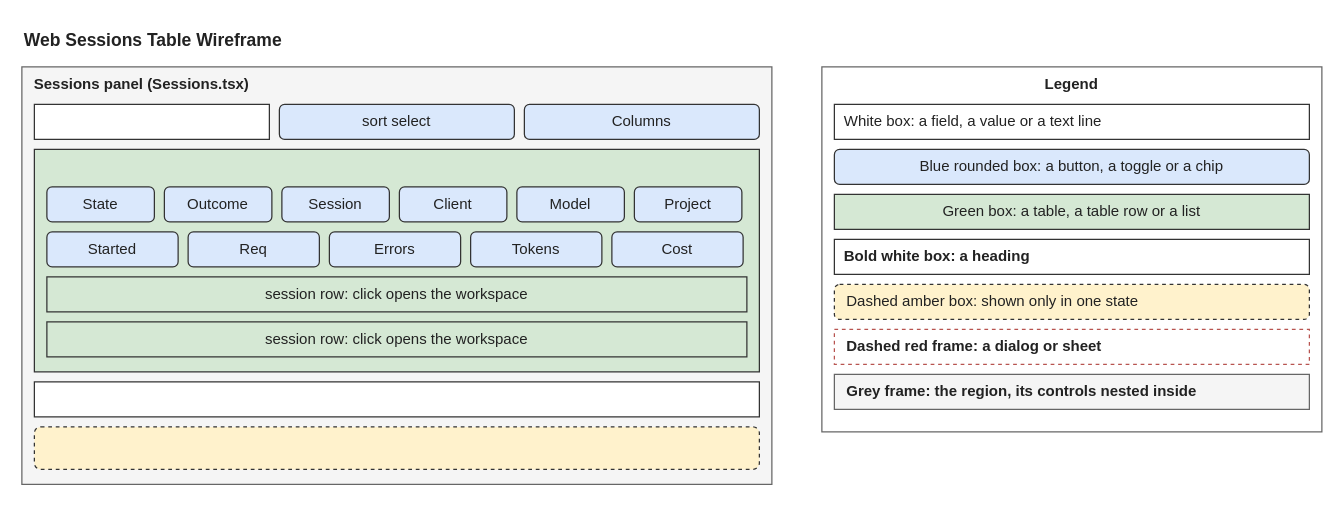
The diagram is 1344 pixels wide and 506 high, and some of its shapes have lost their labels. Each missing label, with the centre of its shape:
"N sessions, sorted by key" belongs at [151,121].
"No sessions in this slice (empty state)" belongs at [396,447].
"Showing the first N of M sessions, or N sessions shown" belongs at [396,399].
